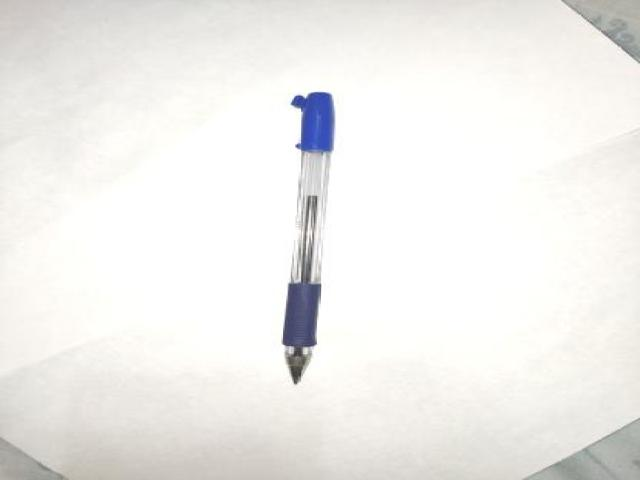PEN: (264, 80, 338, 389)
